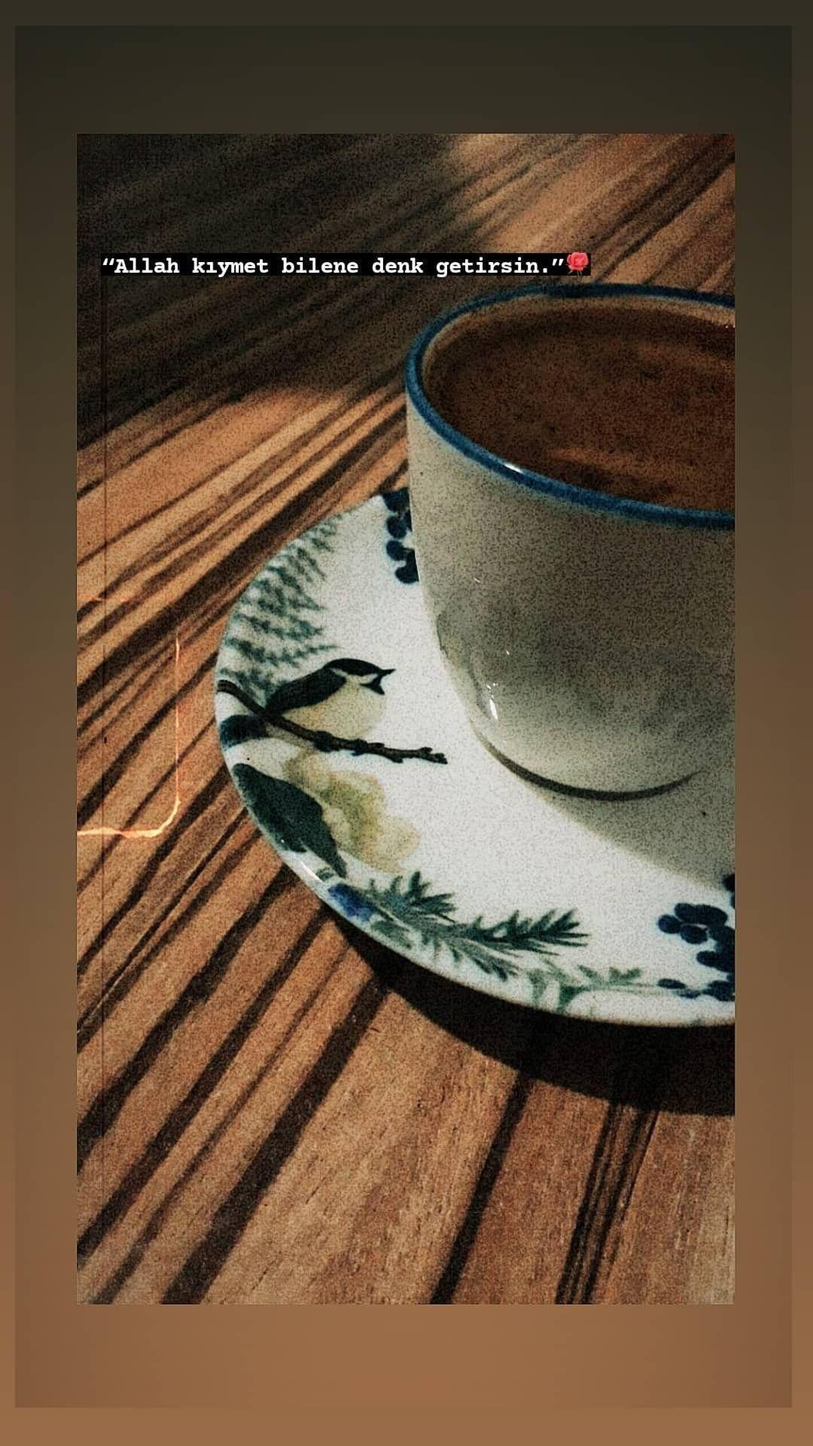cup-handle: (405, 285, 732, 798)
